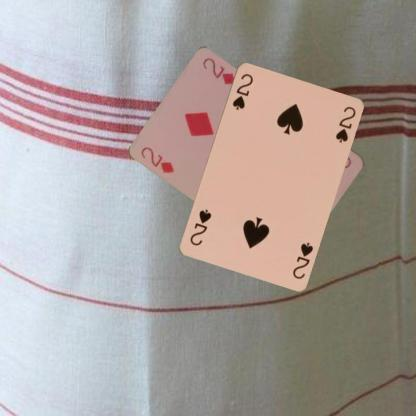2d: (138, 144, 176, 174)
2s: (230, 70, 254, 111), (290, 239, 314, 280)
